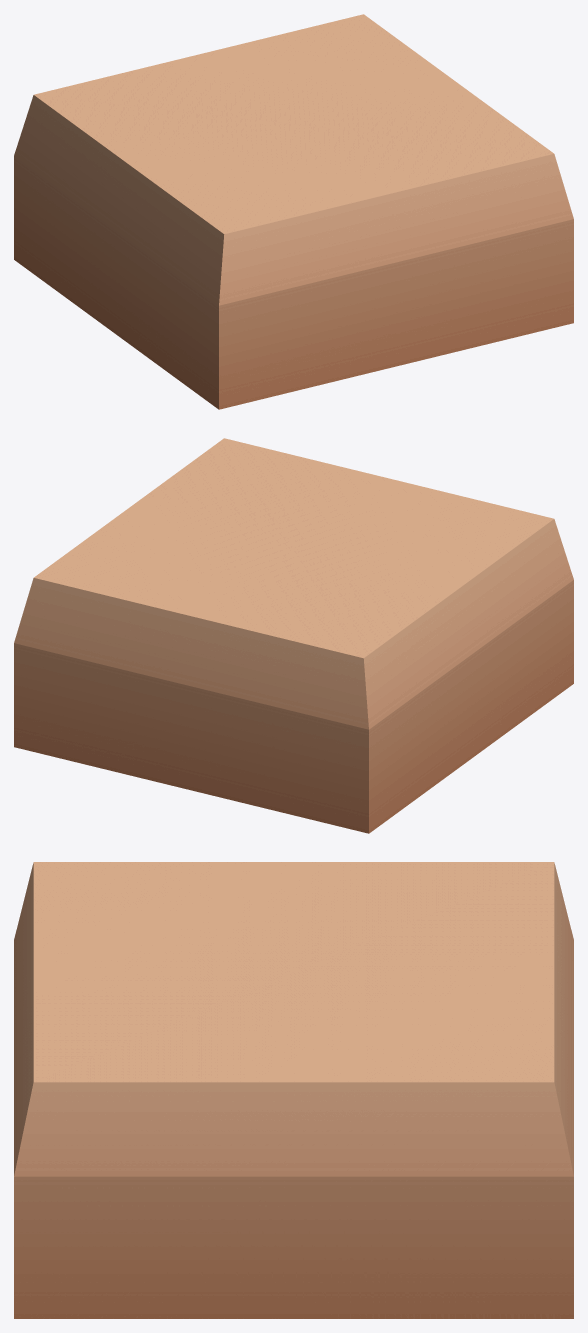
The model's file is tower_square_base_border.glb.
The picture shows the model from 3 angles, top to bottom: view 1: azimuth 30°, elevation 25°; view 2: azimuth 150°, elevation 25°; view 3: azimuth 270°, elevation 25°; orthographic projection. The views are drawn at different scales.
Visible parts, largest first — view 1: tower-square-base-border; view 2: tower-square-base-border; view 3: tower-square-base-border.
Part boxes in pixels (bbox=[...]): tower-square-base-border: bbox=[14, 14, 573, 409]; tower-square-base-border: bbox=[14, 438, 573, 833]; tower-square-base-border: bbox=[14, 862, 573, 1318].
Bounding box in the file's own units: 1 × 0.45 × 1.
Materials: 1 (1 with a texture image).
